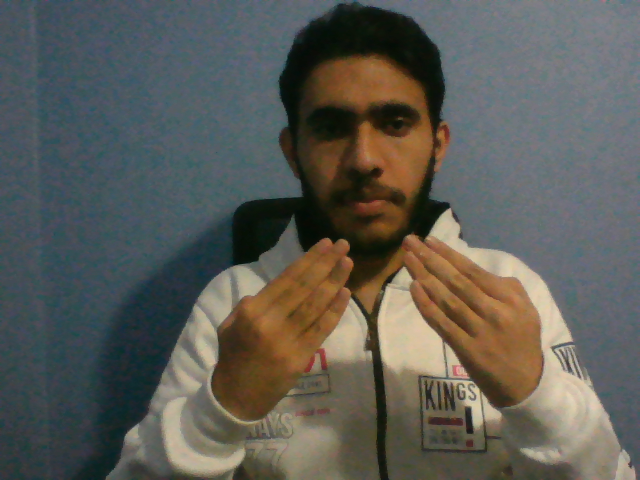thanks: (210, 229, 549, 425)
